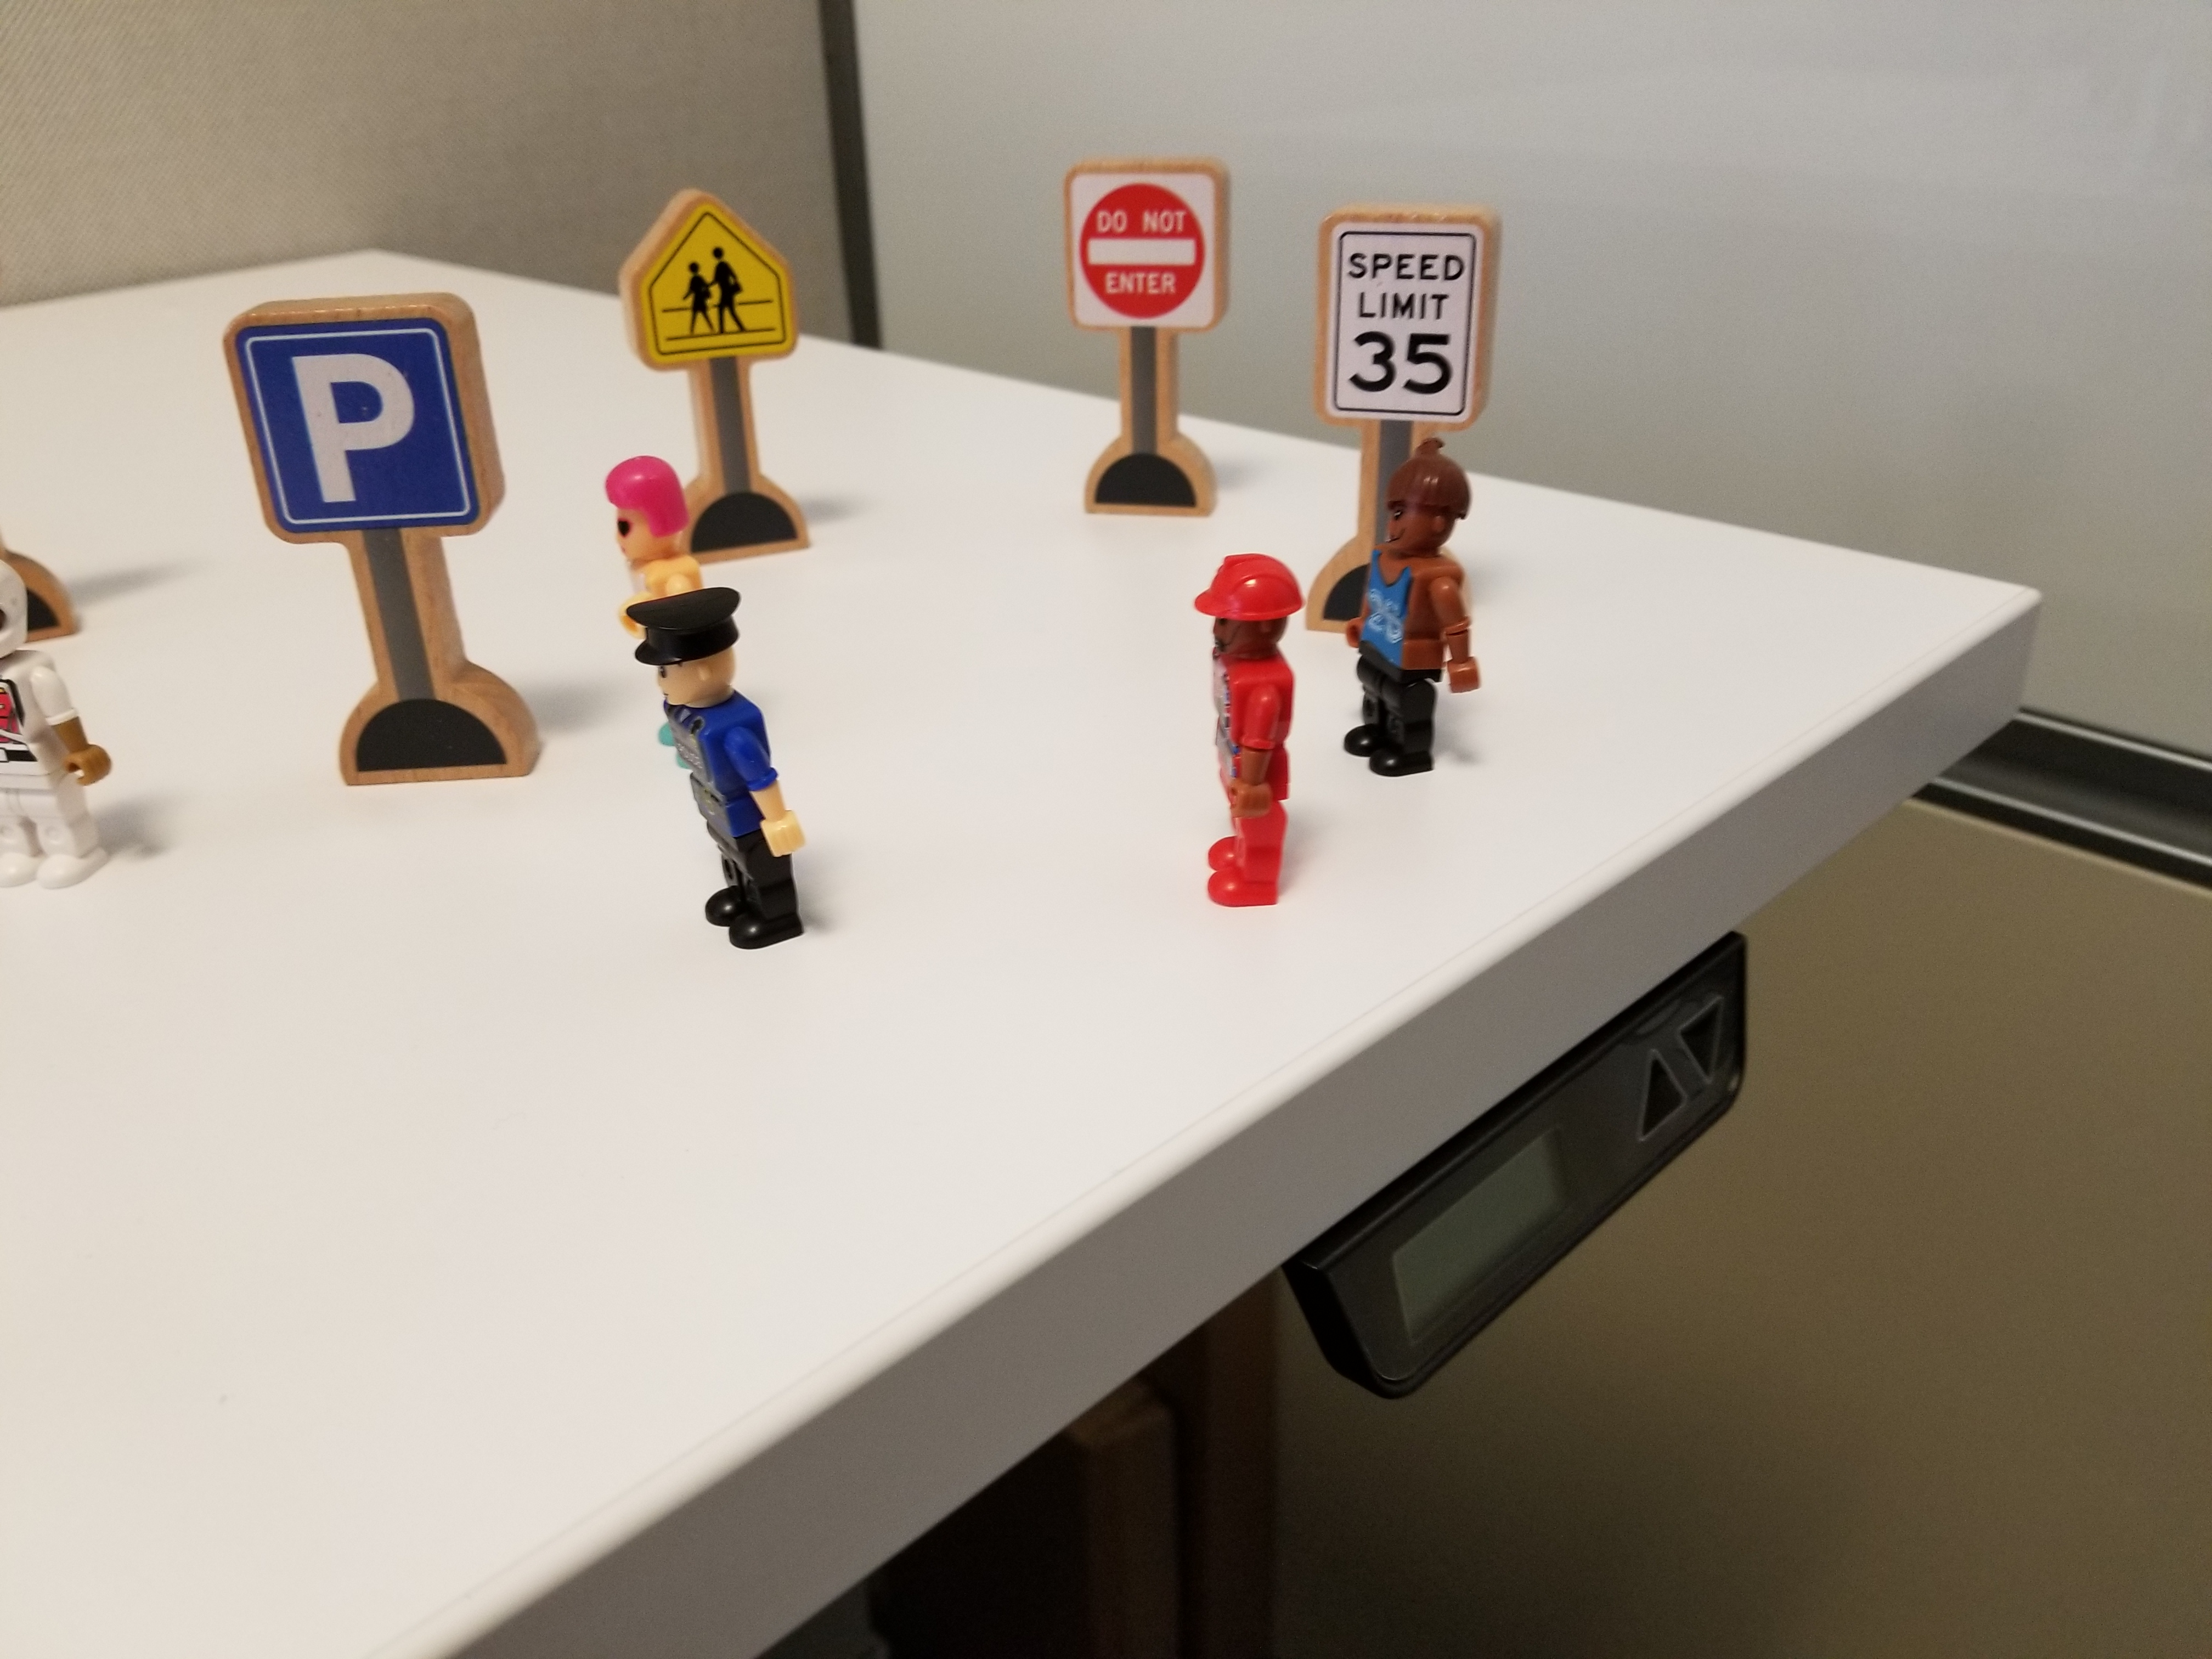Do not enter: (1050, 150, 1232, 528)
Parking: (210, 253, 552, 848)
Pedestrian crossing: (611, 185, 815, 436)
Speed limit 35: (1309, 163, 1511, 440)
person: (602, 583, 813, 989), (1353, 447, 1511, 817), (1166, 528, 1309, 929), (587, 442, 703, 580)
